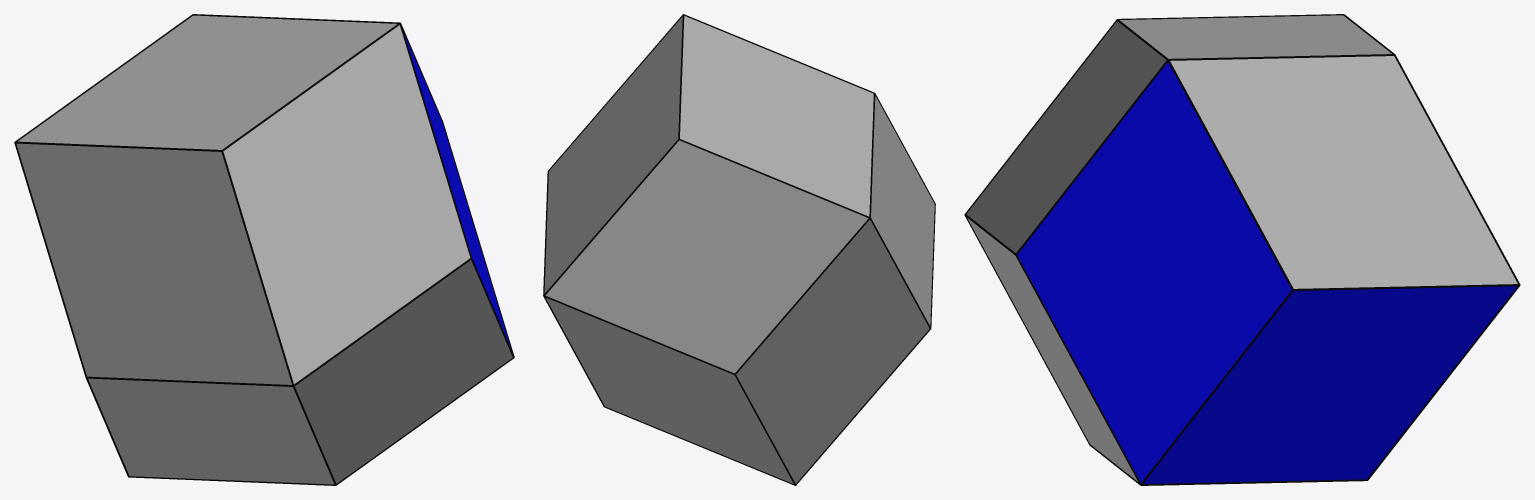
File: RhombicDodecahedron2_1.glb
The picture shows the model from 3 angles, left to right: view 1: azimuth 30°, elevation 25°; view 2: azimuth 150°, elevation 25°; view 3: azimuth 270°, elevation 25°; orthographic projection. The views are drawn at different scales.
Bounding box in the file's own units: 1.74 × 1.87 × 1.94.
